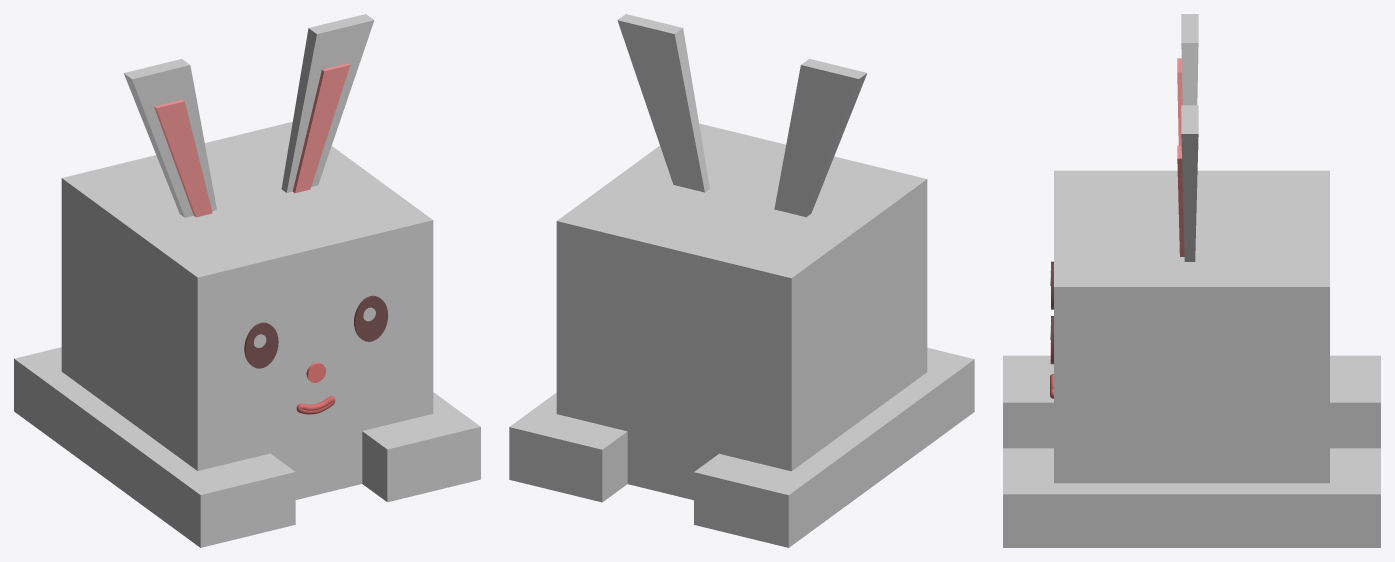
File: rabbit.fbx
The picture shows the model from 3 angles, left to right: view 1: azimuth 30°, elevation 25°; view 2: azimuth 150°, elevation 25°; view 3: azimuth 270°, elevation 25°; orthographic projection.
Parts seen in each view (by area): view 1: body, ear, outear, _cylinde_2; view 2: body, ear; view 3: body, ear, outear.
Part boxes in pixels (x1,y1,x2,y2): body: (14, 122, 480, 547); ear: (123, 14, 374, 217); outear: (154, 63, 350, 217); _cylinde_2: (244, 295, 388, 368); body: (509, 123, 974, 547); ear: (617, 14, 867, 217); body: (1003, 170, 1380, 547); ear: (1181, 14, 1198, 261); outear: (1177, 58, 1184, 256).
Bounding box in the file's own units: 53.5 × 72.87 × 61.63.
